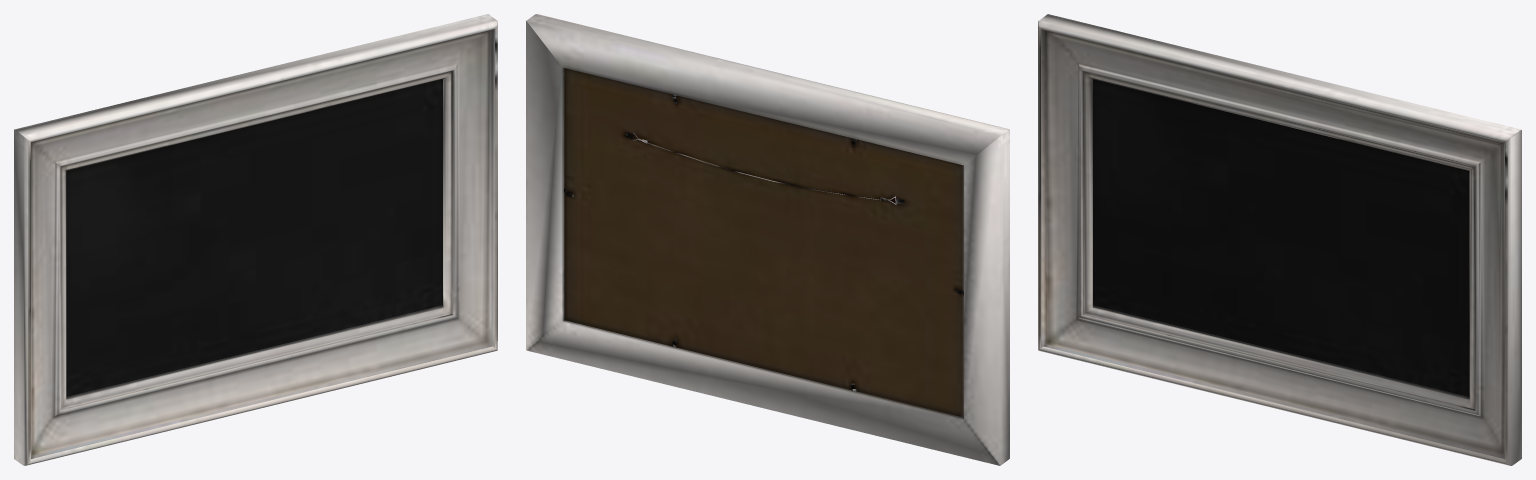
The model's file is frame2.glb.
3 views of the same model, side by side, from view 1: azimuth 30°, elevation 25°; view 2: azimuth 150°, elevation 25°; view 3: azimuth 330°, elevation 25° (orthographic).
Parts seen in each view (by area): view 1: lo; view 2: lo; view 3: lo.
Part boxes in pixels (bbox=[...]): lo: bbox=[14, 14, 497, 465]; lo: bbox=[526, 14, 1009, 465]; lo: bbox=[1038, 14, 1521, 465].
Size of the model in its own units: 0.7518 by 0.4999 by 0.0329.
1 material, 1 textured.
